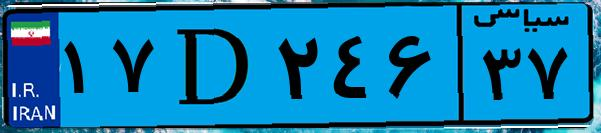1: (57, 26, 110, 100)
2: (270, 28, 330, 110)
3: (475, 38, 525, 113)
4: (330, 28, 385, 110)
6: (385, 28, 445, 110)
7: (525, 38, 570, 115), (110, 28, 158, 98)
D: (158, 12, 270, 120)
